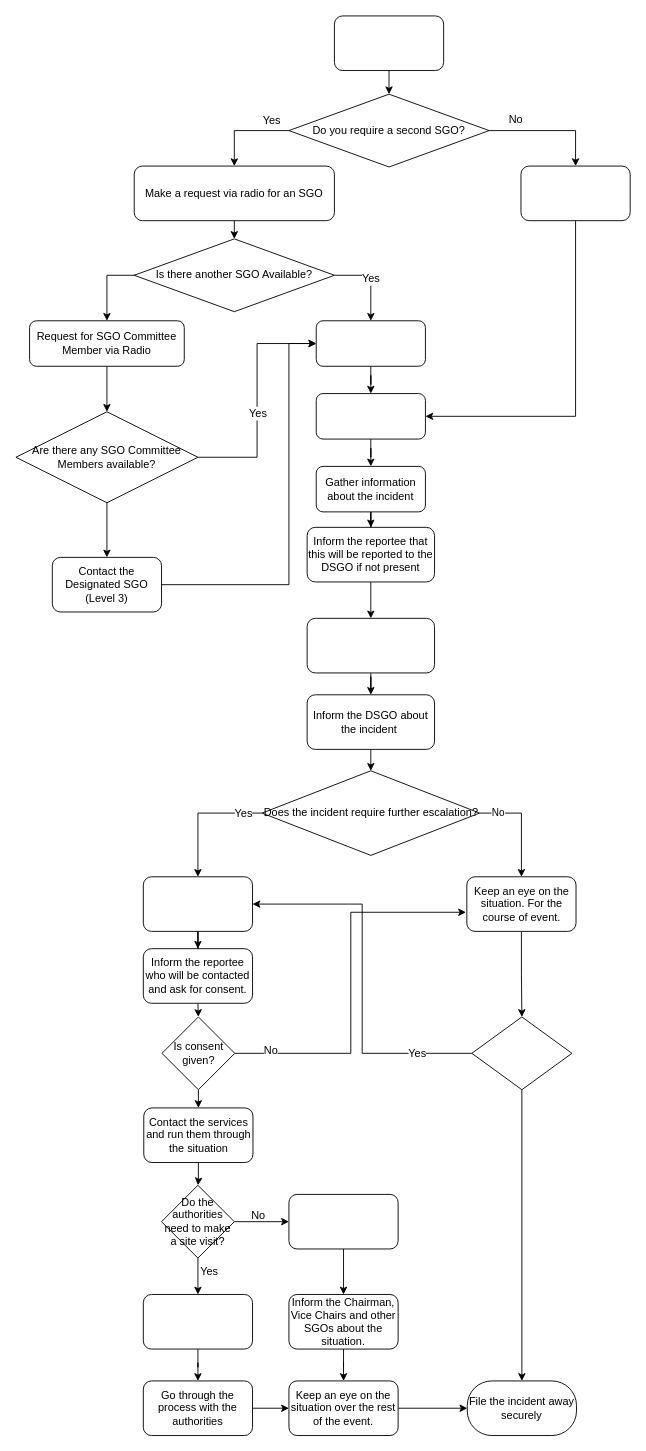
This 646x1451 diagram has some shape labels left out. The centre of each missing label's shape, as x and y in pixels:
"Ask to join you" goes at pixel 370 343.
"Determine the correct services to inform." goes at pixel 197 903.
"Do what the authorities say to do." goes at pixel 343 1221.
"Does incident happen again?" goes at pixel 521 1053.
"Find private location for discussion with reportee" goes at pixel 370 416.
"Inform the Chairman and Vice Chairs about their arrival." goes at pixel 197 1321.
"Inform the reportee that further escalation may be required depending review" goes at pixel 370 645.
"Log no additional SGO Requried." goes at pixel 575 193.
"Safeguarding Incident reported" goes at pixel 389 43.
